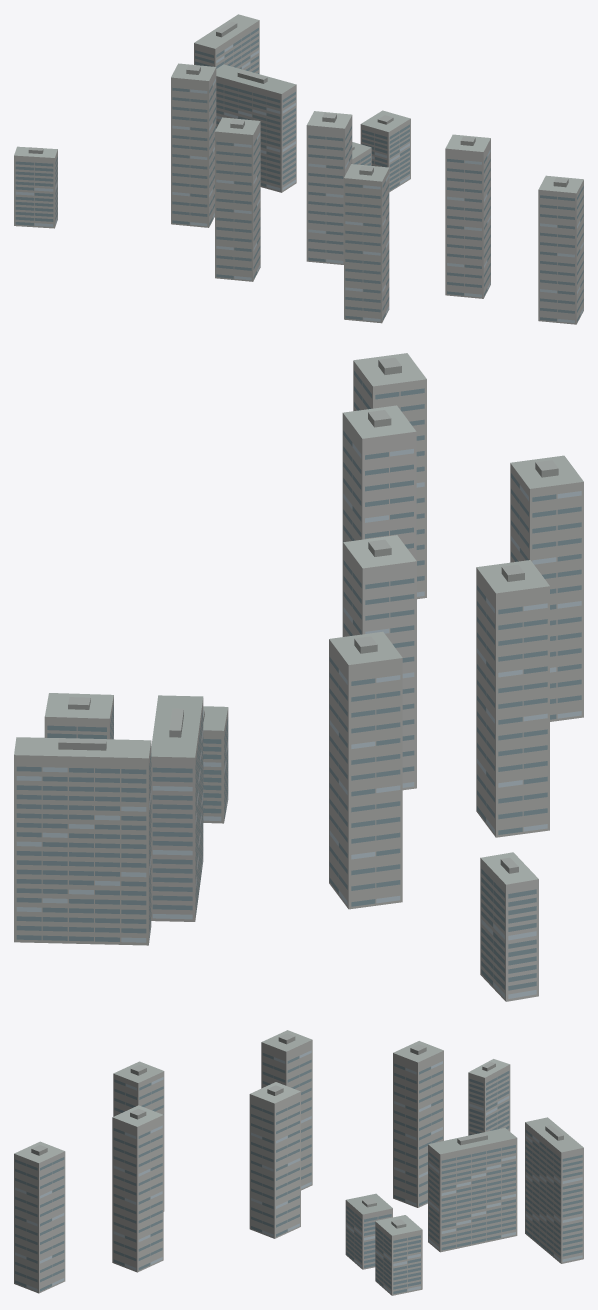
Rendered from apt-a15076702.glb.
3 renders of one model, top to bottom at view 1: azimuth 30°, elevation 25°; view 2: azimuth 150°, elevation 25°; view 3: azimuth 270°, elevation 25°, orthographic. The views are drawn at different scales.
Visible parts, largest first — view 1: apt-a15076702; view 2: apt-a15076702; view 3: apt-a15076702.
Boxes of the visible parts, x1=… form: apt-a15076702: x1=14, y1=14, x2=583, y2=324; apt-a15076702: x1=14, y1=353, x2=583, y2=1001; apt-a15076702: x1=14, y1=1030, x2=583, y2=1295.
Size of the model in its own units: 211 by 88 by 304.
